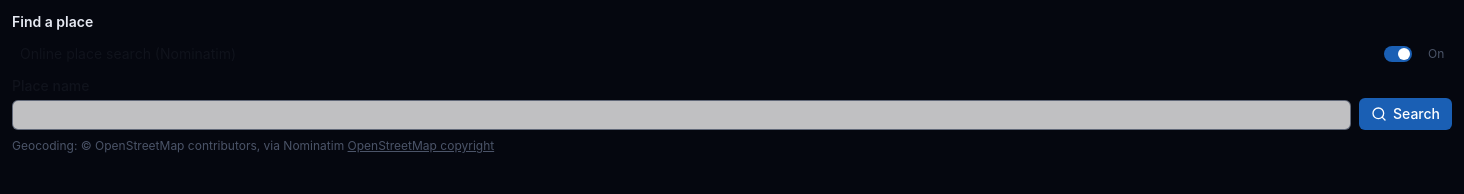
Test: PlaceSearch › translates a failure and keeps the button usable once the interval has passed
The image size is (1464, 194).
Type "Paris" into the field labelled "Place name".
click(682, 115); type("Paris")  # box [12,100,1351,130]
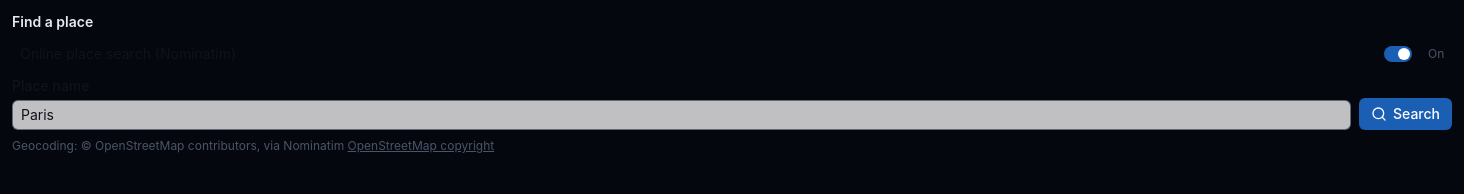
Submit the form "Place name", box [12,76,1452,130]
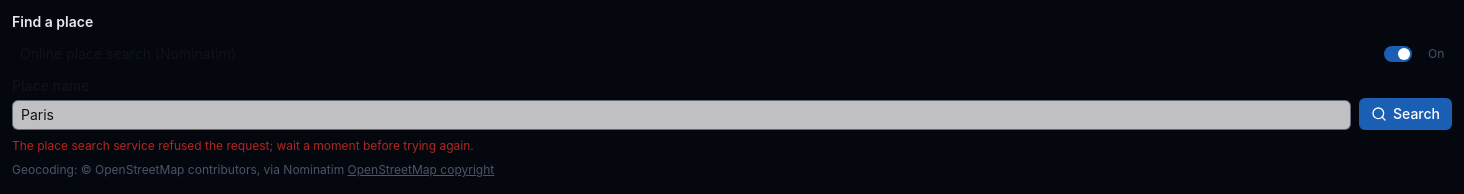
Now the message reads "The place search service refused the request; wait a moment before trying again.", box [12,138,474,153]
